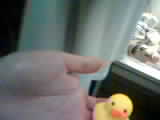duck: (96, 85, 137, 118)
